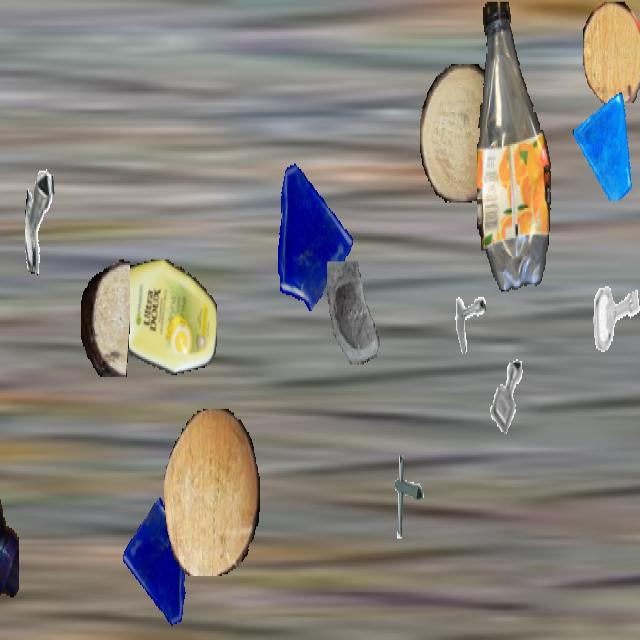glass: (265, 151, 355, 311), (121, 498, 199, 636), (321, 262, 389, 382), (573, 89, 635, 199)
metal: (25, 169, 87, 279), (585, 263, 640, 370), (479, 347, 535, 446), (380, 450, 432, 542), (444, 277, 486, 352)
plastic: (477, 2, 553, 290), (104, 259, 216, 377), (0, 366, 18, 608)
wood: (164, 409, 260, 576), (420, 64, 502, 203), (583, 2, 640, 105), (81, 258, 129, 375)
